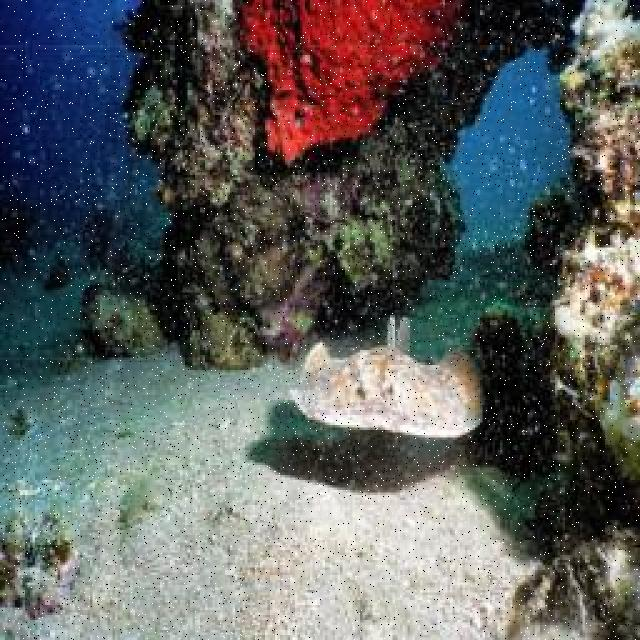reefs: (286, 314, 485, 441)
